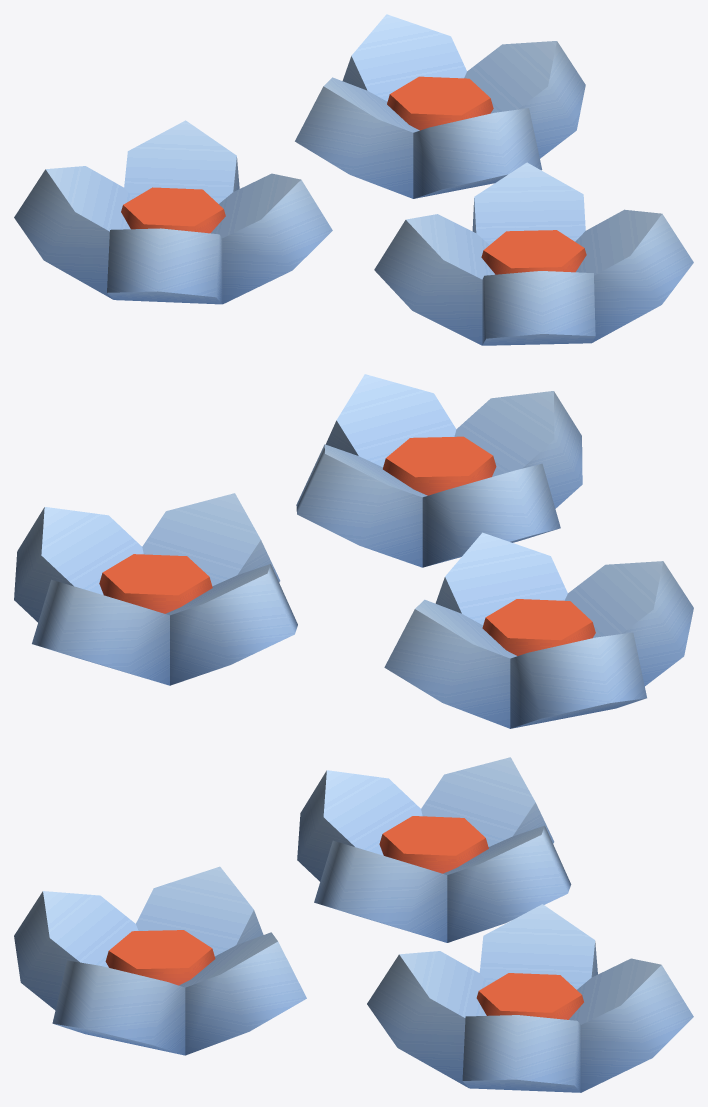
The model's file is flores azuis.glb.
3 views of the same model, one above another, from view 1: azimuth 30°, elevation 25°; view 2: azimuth 150°, elevation 25°; view 3: azimuth 270°, elevation 25° (orthographic). The views are drawn at different scales.
Parts seen in each view (by area): view 1: Group.001, Group, Group.002; view 2: Group, Group.002, Group.001; view 3: Group.002, Group.001, Group.
Boxes of the visible parts, x1,y1,x2,y2 form: Group.001: (374, 162, 693, 345); Group: (14, 120, 332, 304); Group.002: (295, 14, 585, 198); Group: (384, 532, 693, 728); Group.002: (14, 493, 297, 685); Group.001: (296, 374, 582, 567); Group.002: (367, 904, 693, 1092); Group.001: (14, 866, 306, 1055); Group: (297, 757, 571, 942).
Size of the model in its own units: 0.7766 by 0.137 by 0.7857.
1 material, 1 textured.
